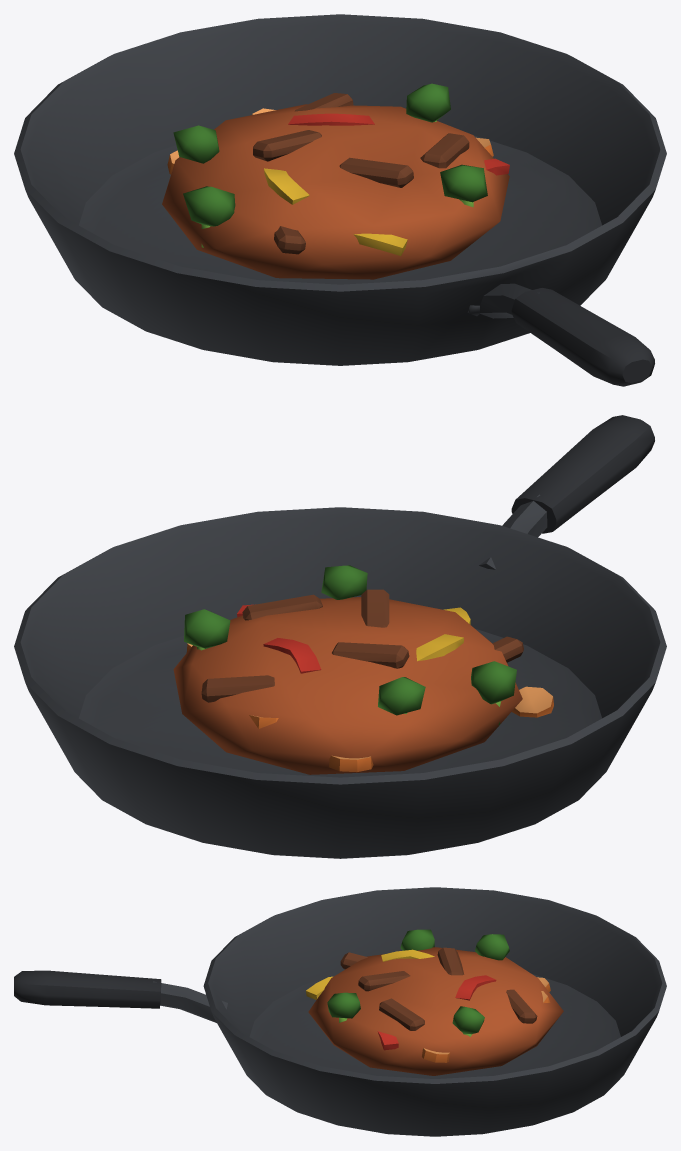
Rendered from pan.glb.
The picture shows the model from 3 angles, top to bottom: view 1: azimuth 30°, elevation 25°; view 2: azimuth 150°, elevation 25°; view 3: azimuth 270°, elevation 25°; orthographic projection. The views are drawn at different scales.
Visible parts, largest first — view 1: pan; view 2: pan; view 3: pan.
Part boxes in pixels (<box>): pan: <box>14,14,666,386</box>; pan: <box>14,415,666,858</box>; pan: <box>14,887,666,1136</box>.
Size of the model in its own units: 0.28 by 0.0605 by 0.3945.
